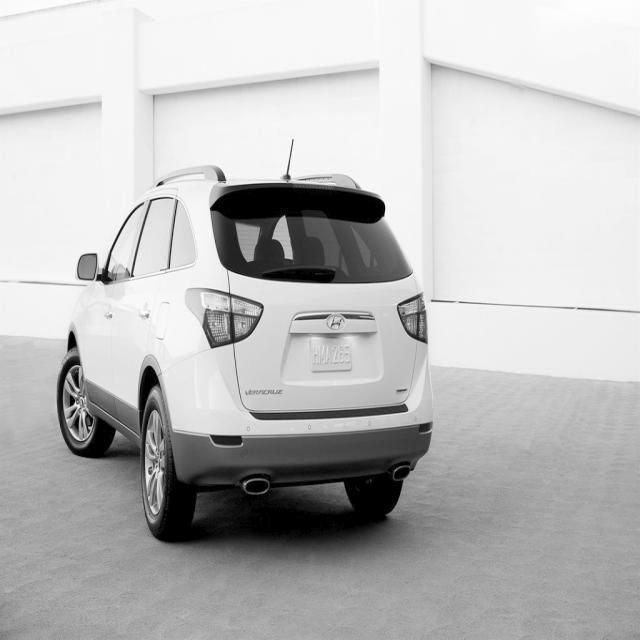car: (56, 142, 433, 540)
plat_license: (308, 338, 353, 372)
